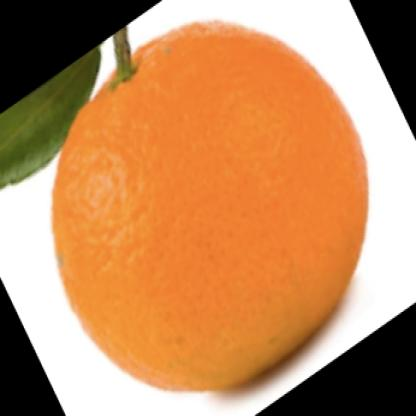fresh: (53, 19, 370, 395)
